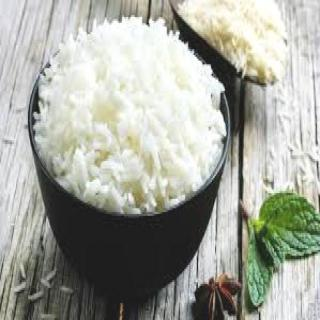Nasi: (33, 15, 228, 215), (176, 1, 290, 85)
